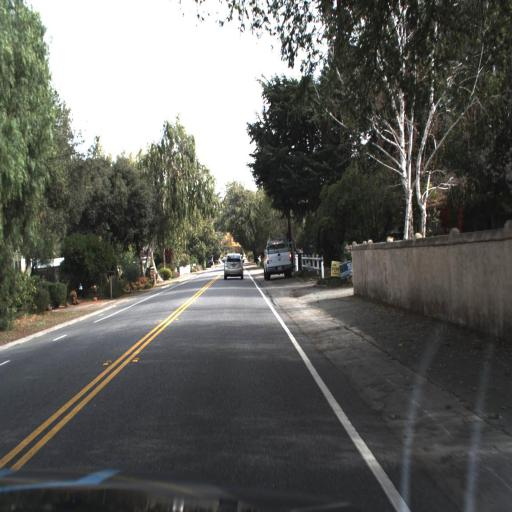car: (262, 242, 294, 276), (222, 252, 246, 280)
